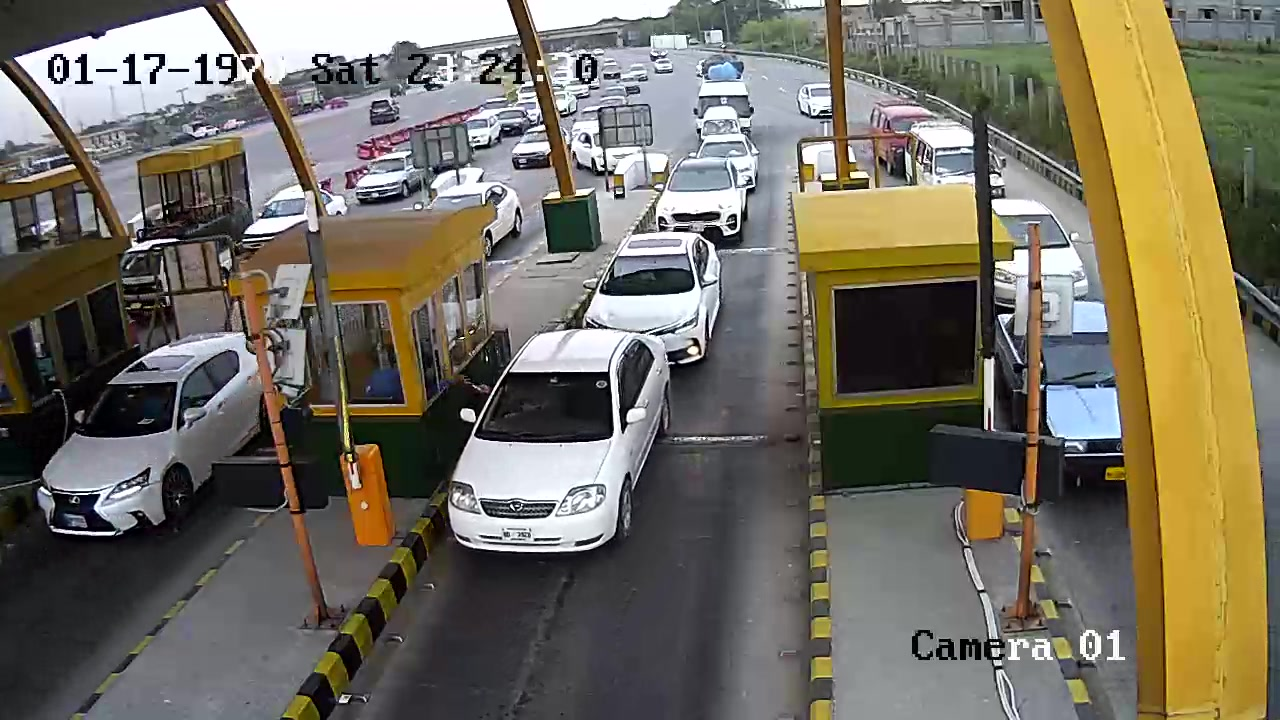F1: (441, 325, 673, 577)
